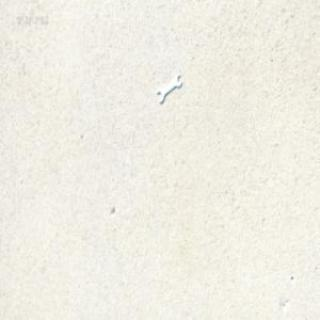Wrenchtrack_idkeyframe: (156, 71, 181, 103)
